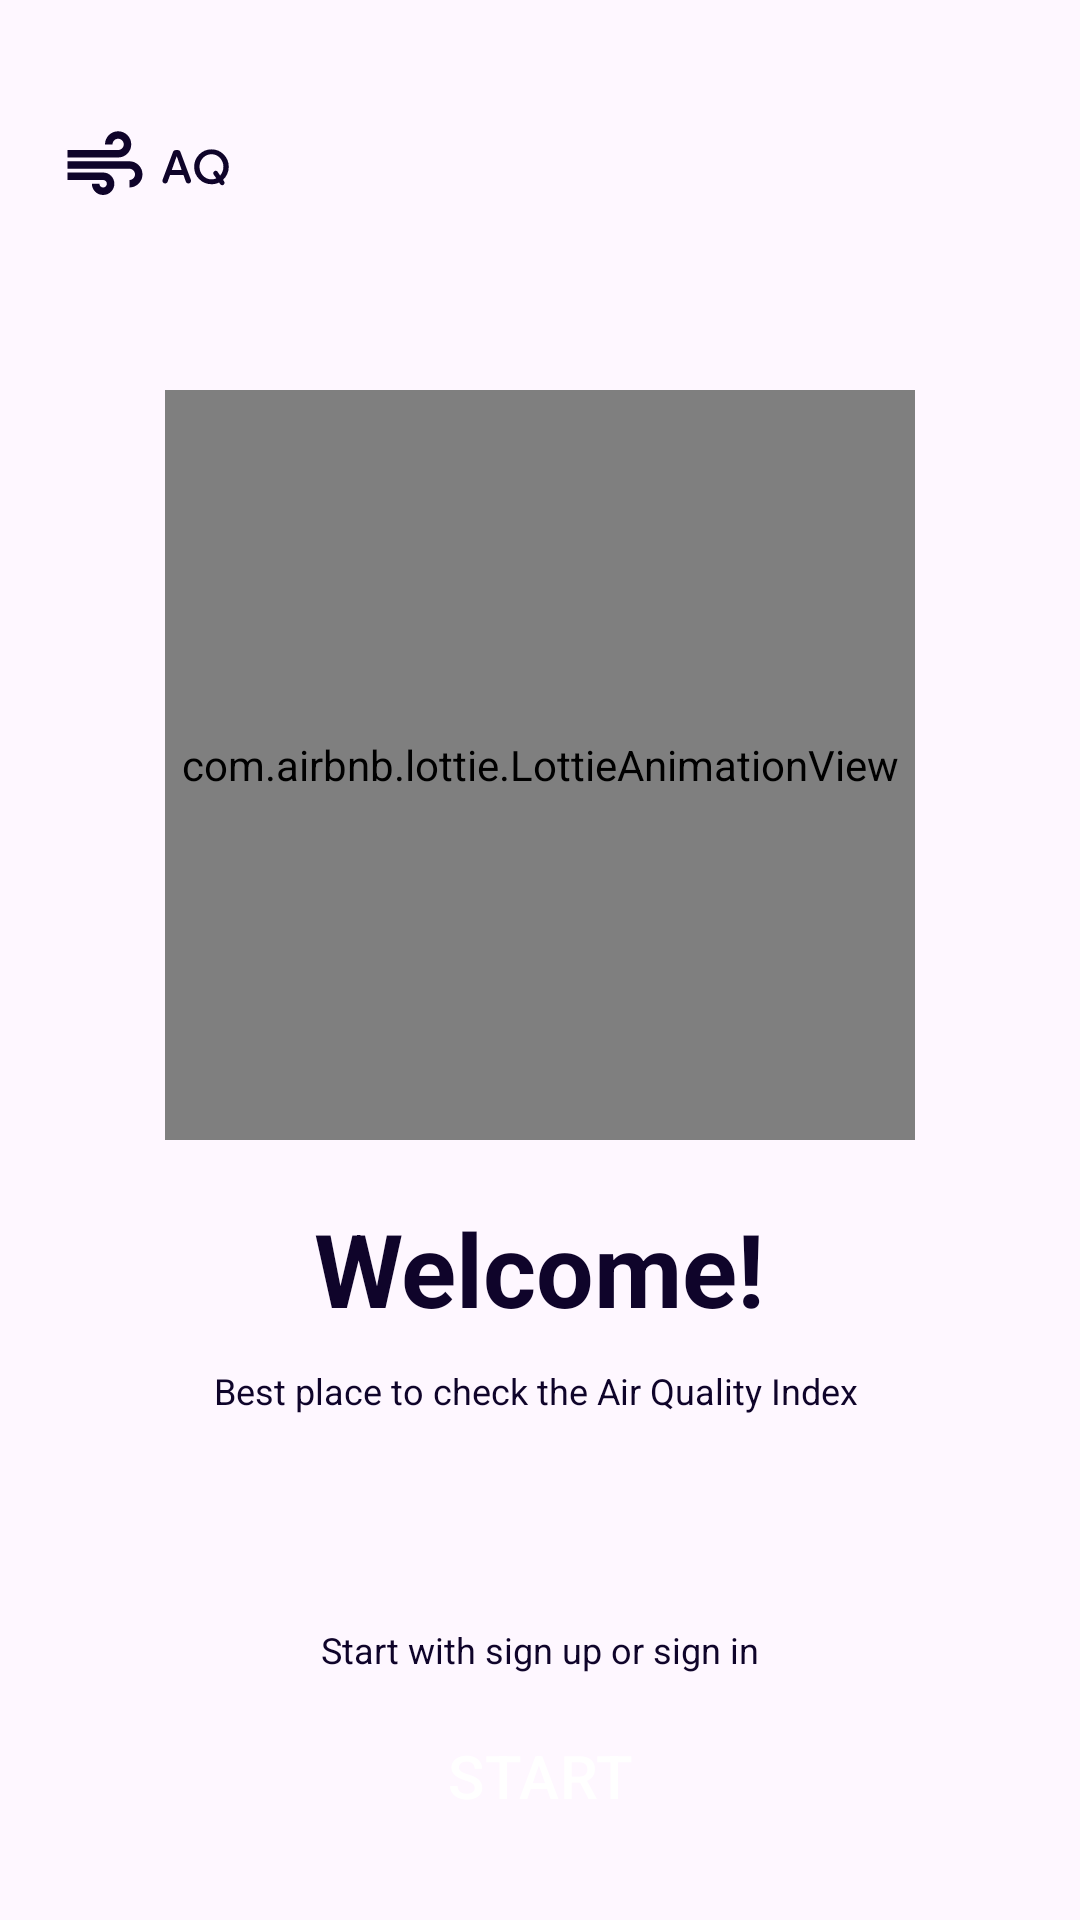

Named icons in this screenshot (1080px×1920px) and their bounding boxes, Rect(x1, y1, x2, y2):
air: Rect(67, 131, 143, 195)
